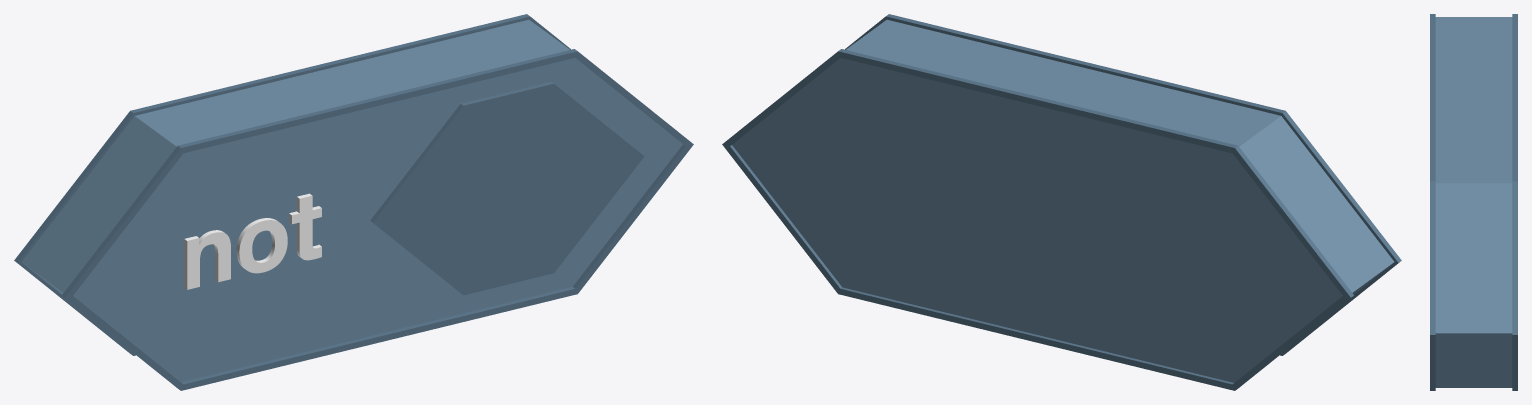
File: logic_negate.gltf
3 renders of one model, left to right at view 1: azimuth 30°, elevation 25°; view 2: azimuth 150°, elevation 25°; view 3: azimuth 270°, elevation 25°, orthographic. The views are drawn at different scales.
Parts seen in each view (by area): view 1: Extrude.5, Extrude, Extrude.4, Extrude.6, Extrude.3, Extrude.2, Extrude.1; view 2: Extrude.5, Extrude.6, Extrude.4; view 3: Extrude.5, Extrude.4, Extrude.6.
Part boxes in pixels (x1,y1,x2,y2): Extrude.5: (21,19,682,382); Extrude: (370,82,644,295); Extrude.4: (62,49,693,390); Extrude.6: (14,14,570,355); Extrude.3: (184,230,230,289); Extrude.2: (236,218,287,273); Extrude.1: (289,193,321,260); Extrude.5: (732,19,1394,382); Extrude.6: (722,49,1353,390); Extrude.4: (845,14,1401,355); Extrude.5: (1435,17,1512,387); Extrude.4: (1430,14,1435,390); Extrude.6: (1512,14,1517,390).
Size of the model in its own units: 0.551 by 0.2033 by 0.0773.
